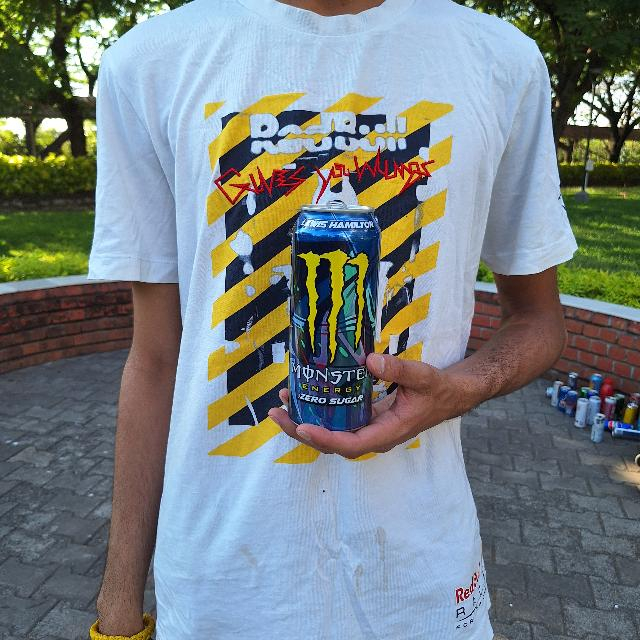Monster LH44: (292, 207, 388, 433)
